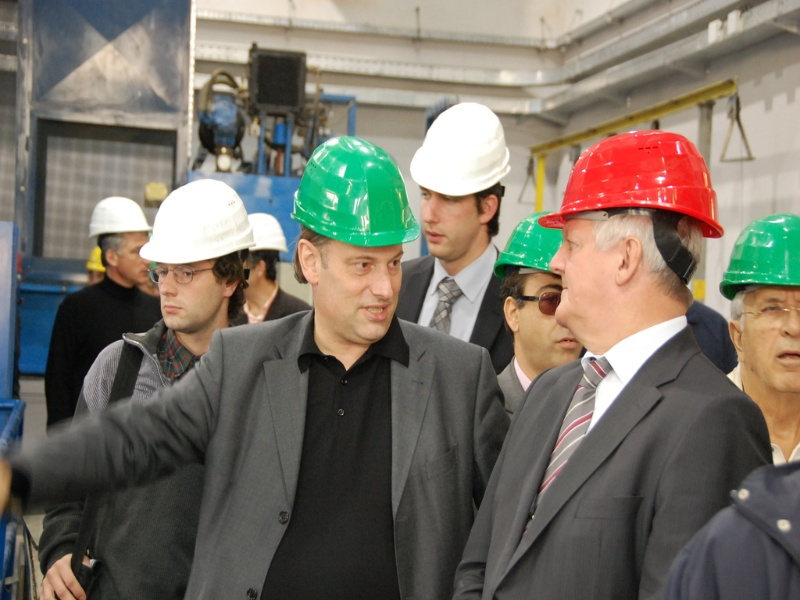Baret: (564, 130, 726, 234), (292, 135, 421, 246), (140, 178, 256, 264), (409, 101, 511, 196), (90, 196, 153, 235)
